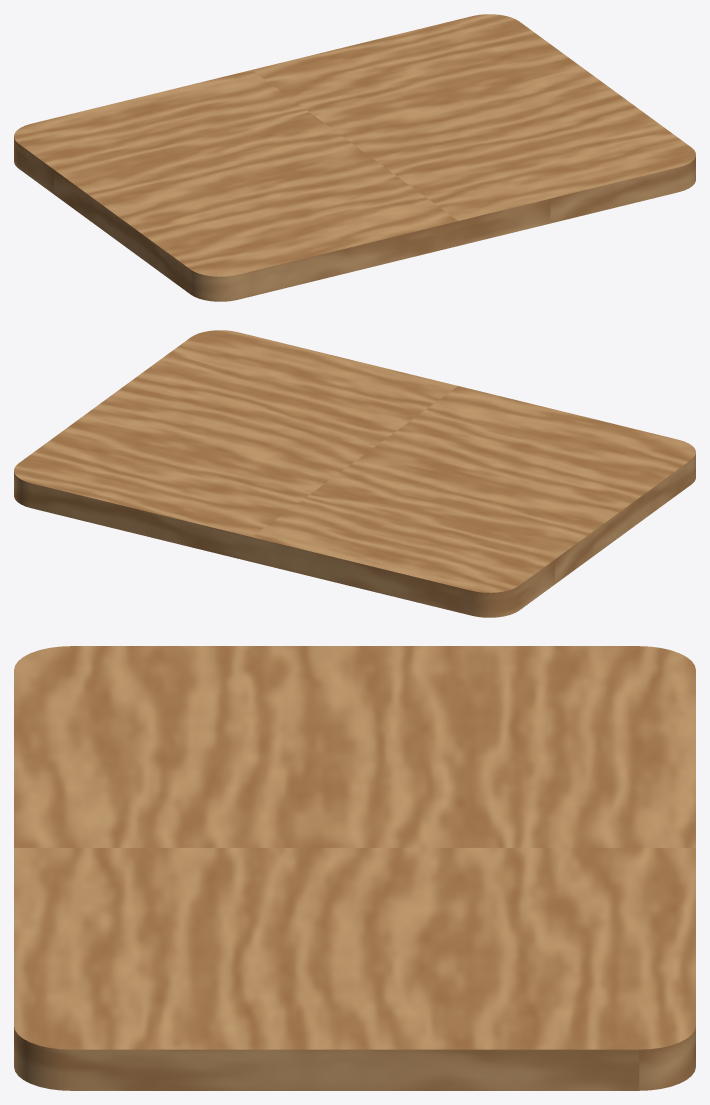
The picture shows the model from 3 angles, top to bottom: view 1: azimuth 30°, elevation 25°; view 2: azimuth 150°, elevation 25°; view 3: azimuth 270°, elevation 25°; orthographic projection. The views are drawn at different scales.
Parts seen in each view (by area): view 1: Cutting board, wooden; view 2: Cutting board, wooden; view 3: Cutting board, wooden.
Boxes of the visible parts, box(x1,y1,x2,y2) form: Cutting board, wooden: box(14, 14, 695, 301); Cutting board, wooden: box(14, 330, 695, 617); Cutting board, wooden: box(14, 646, 695, 1090).
Bounding box in the file's own units: 0.42 × 0.02 × 0.3.
1 material, 1 textured.
